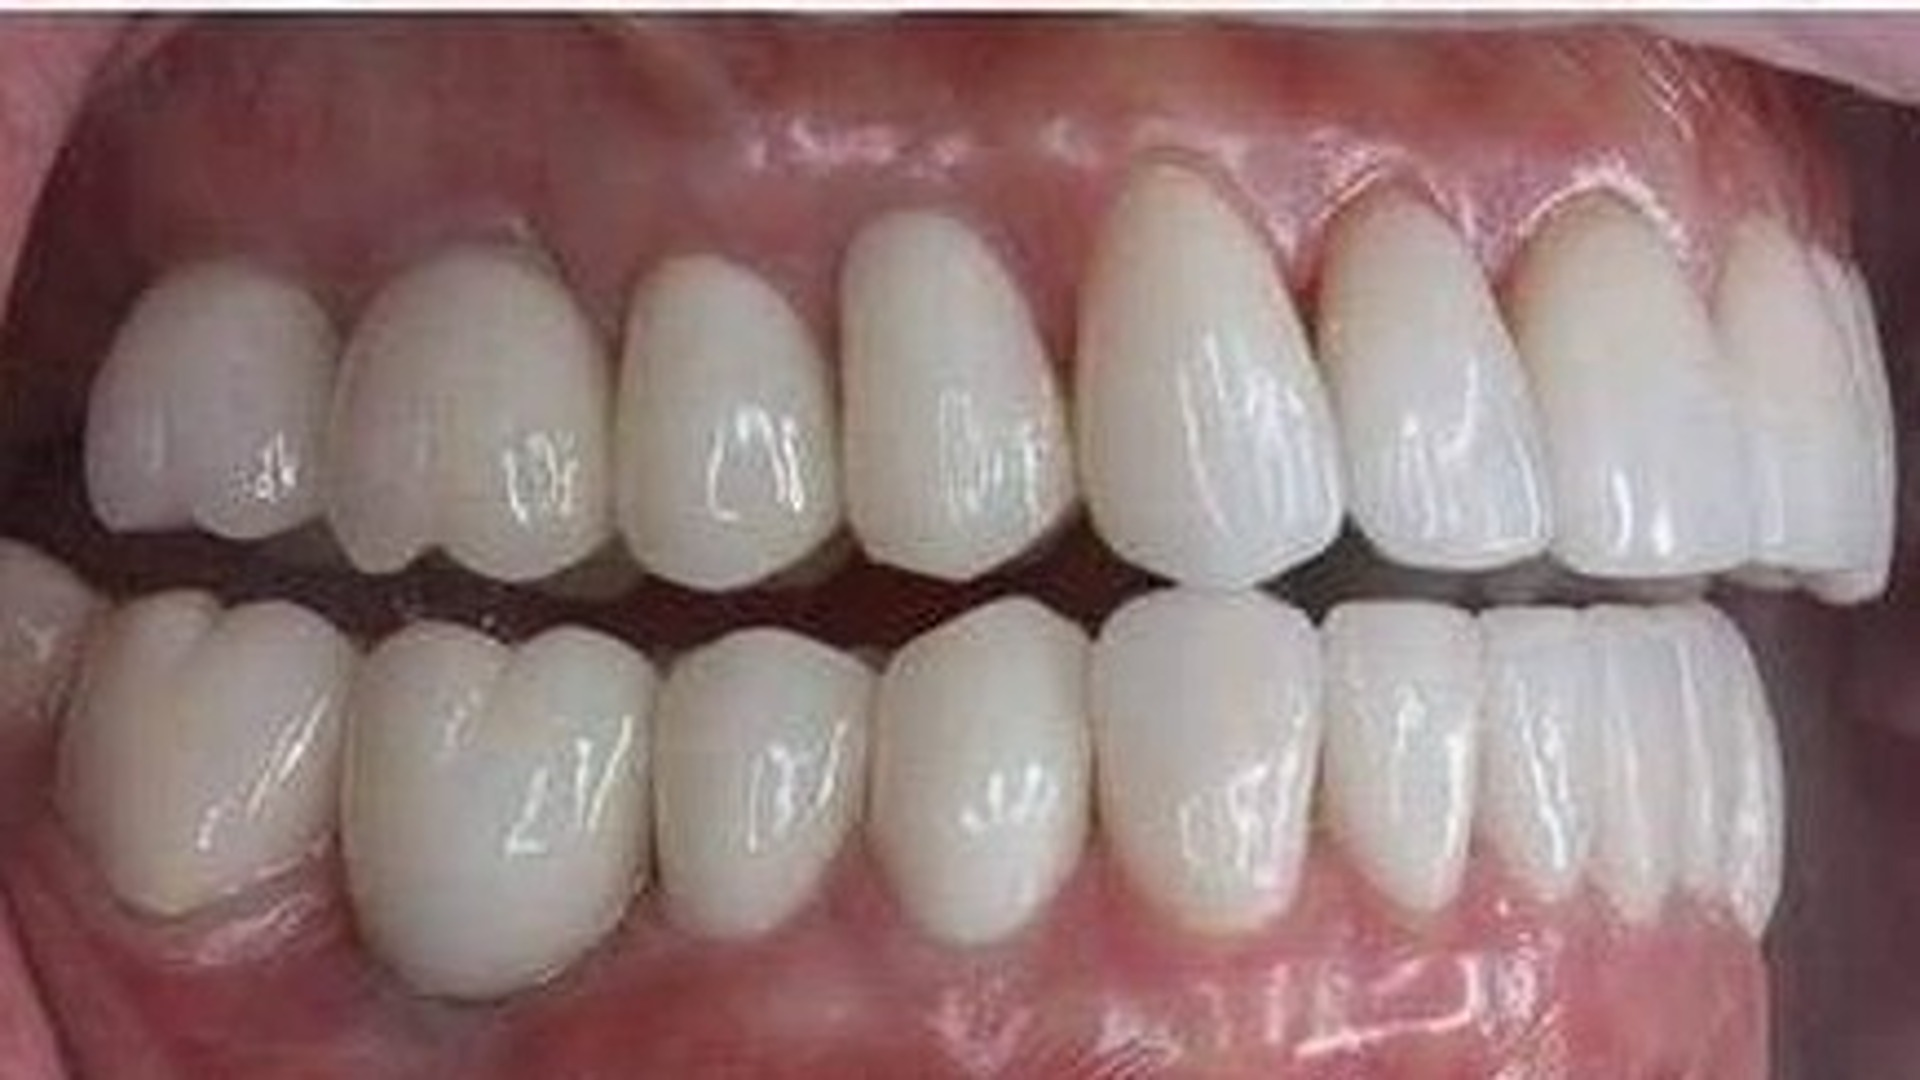tooth: (339, 621, 657, 1001), (1073, 152, 1346, 592), (1495, 186, 1782, 579), (322, 247, 615, 583), (55, 588, 357, 914), (1313, 179, 1553, 572), (837, 208, 1076, 582), (1091, 587, 1325, 939), (865, 596, 1092, 948), (616, 255, 843, 593), (83, 262, 339, 541), (651, 626, 877, 940), (1317, 599, 1485, 913), (1473, 605, 1609, 895)
